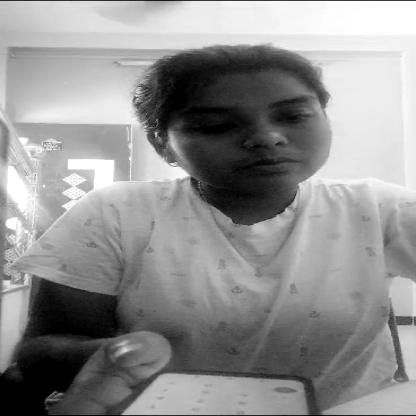Distracted: (167, 56, 342, 187)
